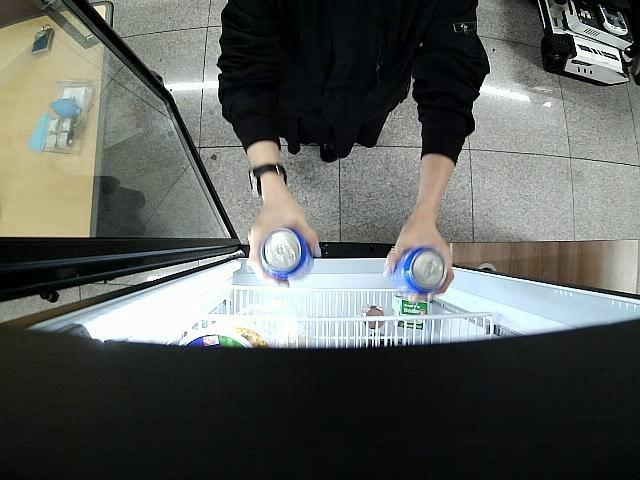13_pocariSweat: (258, 224, 314, 283), (389, 246, 448, 297)
